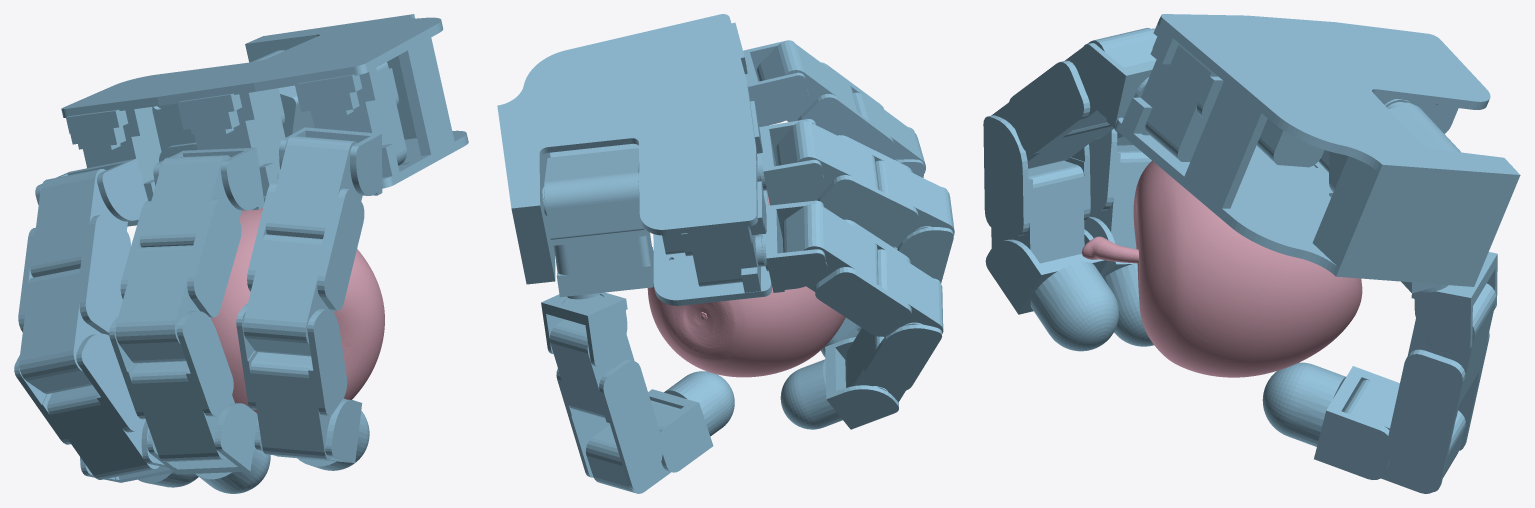
3 renders of one model, left to right at view 1: azimuth 30°, elevation 25°; view 2: azimuth 150°, elevation 25°; view 3: azimuth 270°, elevation 25°, orthographic. The views are drawn at different scales.
Parts seen in each view (by area): view 1: world; view 2: world; view 3: world.
Part boxes in pixels (x1=…): world: x1=14, y1=14, x2=468, y2=493; world: x1=497, y1=14, x2=954, y2=493; world: x1=983, y1=14, x2=1520, y2=493.
Bounding box in the file's own units: 0.1735 × 0.1635 × 0.1691.
